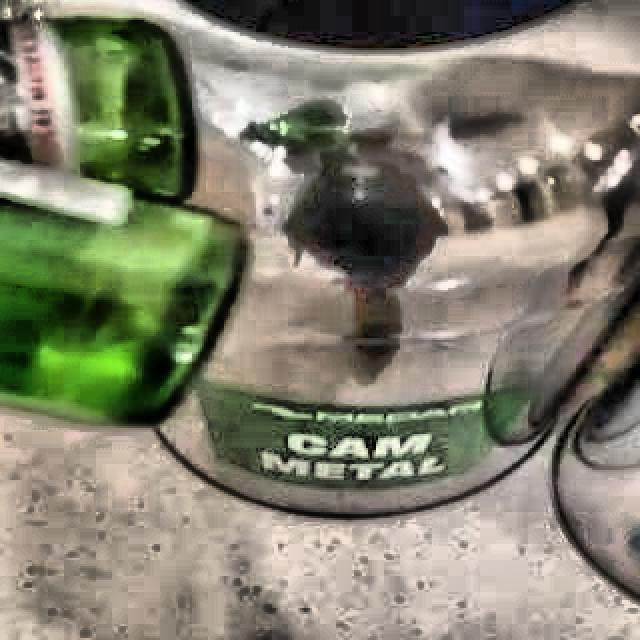glass: (0, 18, 245, 424)
